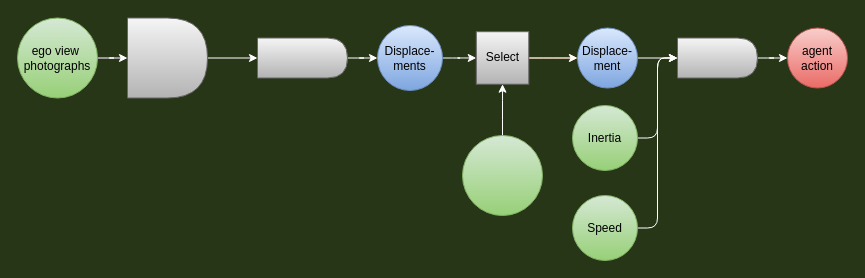
Some shapes in this 865 by 278 pixel diagram are drawn without their labels. Here are the shapes that lost their labels. From the top down, the centre of each, then its label:
At point (167, 57): "Resnet Backbone".
At point (302, 57): "Displacement MLP".
At point (717, 57): "action MLP".
At point (502, 175): "High-level instruction".
